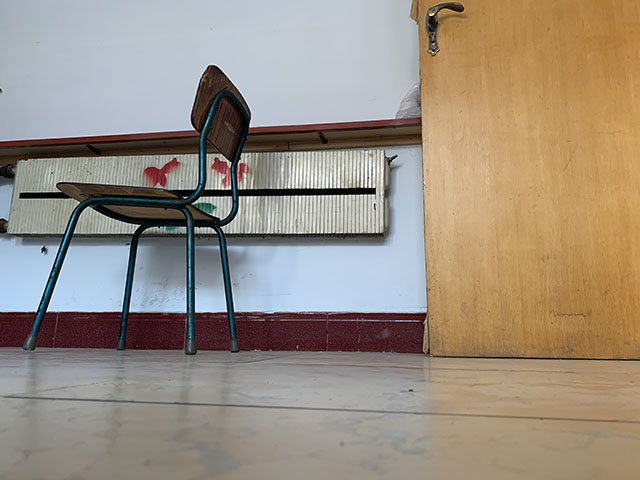stool: (21, 62, 252, 356)
